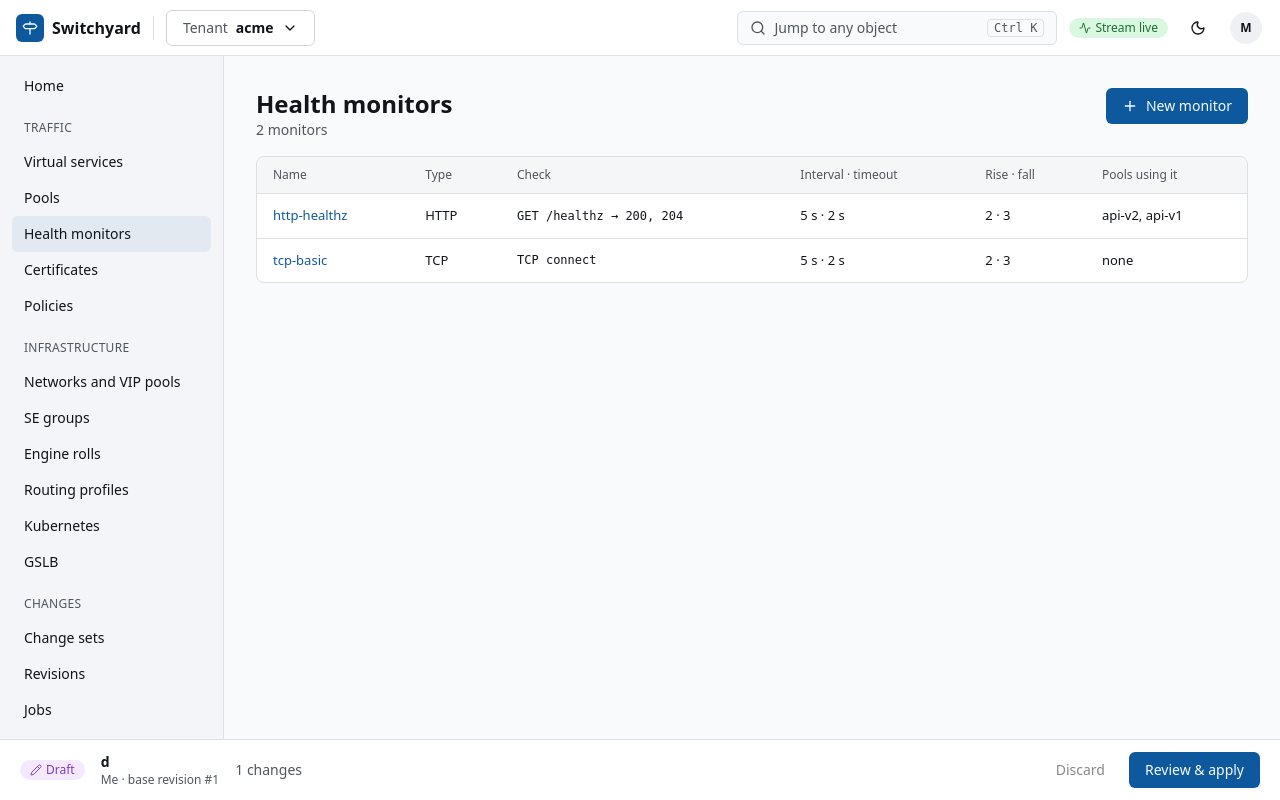
it: health monitors › delete warns when pools still use the monitor
The image size is (1280, 800).
Expected: the text "api-v2, api-v1" is shown, [1086, 194, 1247, 238]
Click the button "http-healthz": (310, 216) [273, 206, 348, 226]
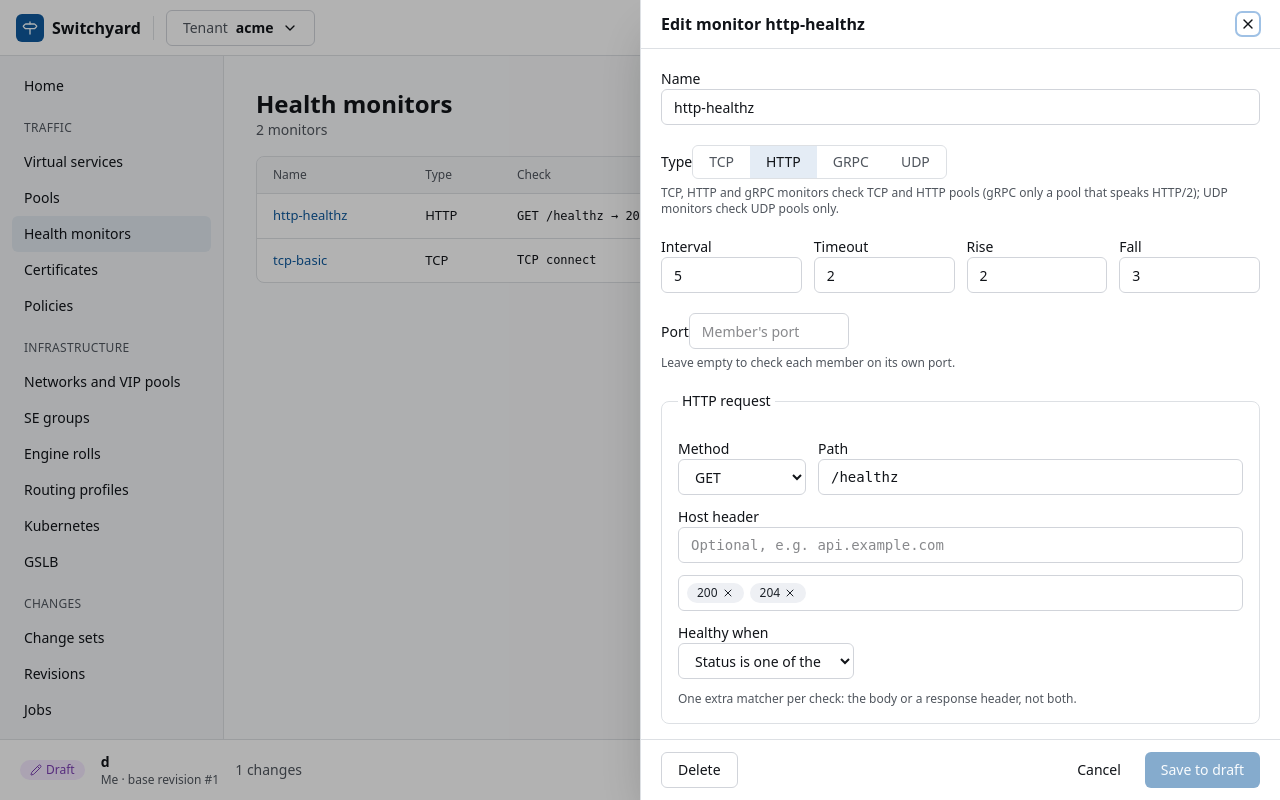
Expected: the button "Delete" is enabled
Click the button "Delete": (699, 770) [661, 752, 738, 788]
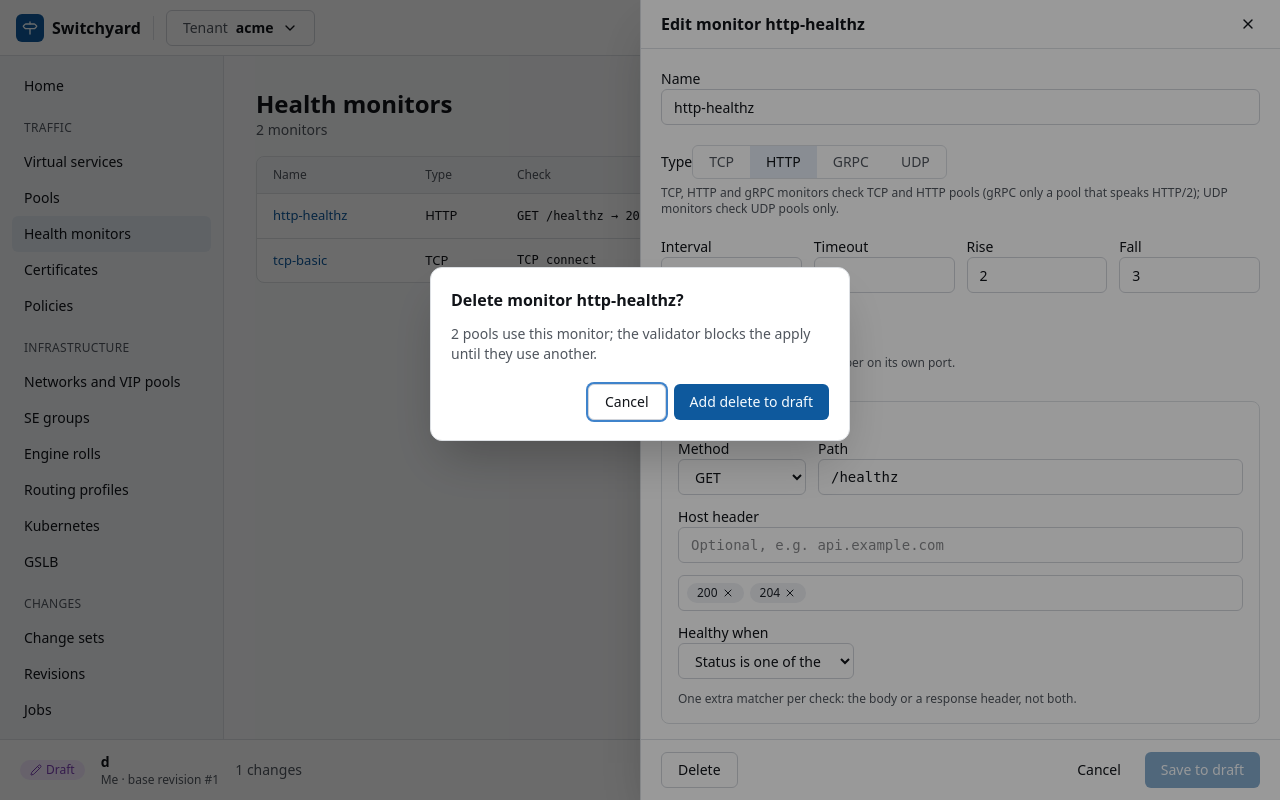
Expected: the text "2 pools use this monitor" is shown, [451, 324, 810, 363]
